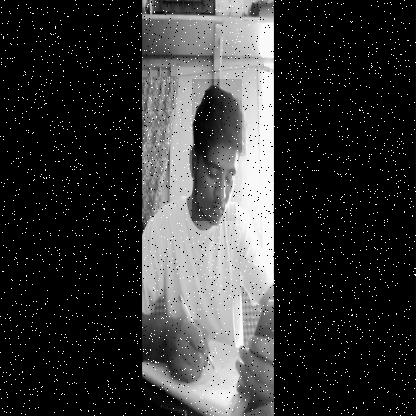Distracted: (192, 79, 242, 221)
